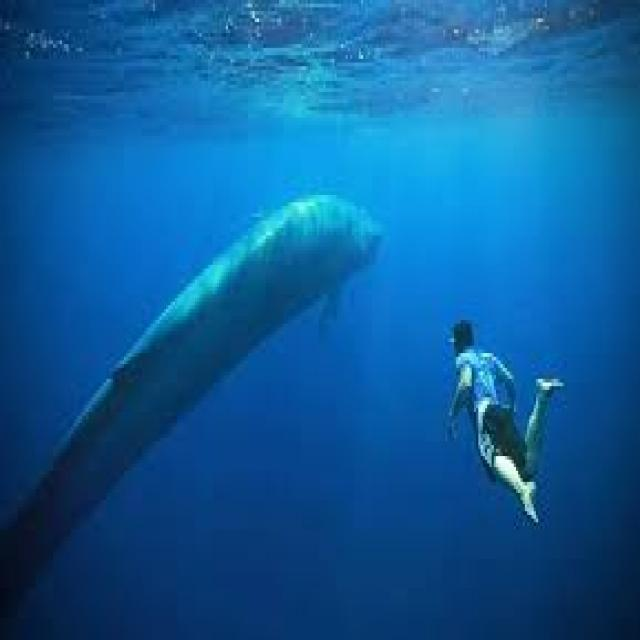blue_whale: (0, 169, 396, 640)
